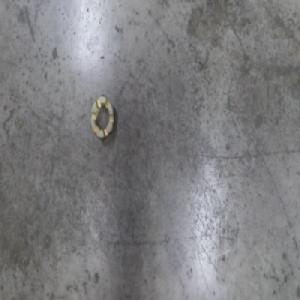Nut: (89, 93, 117, 143)
